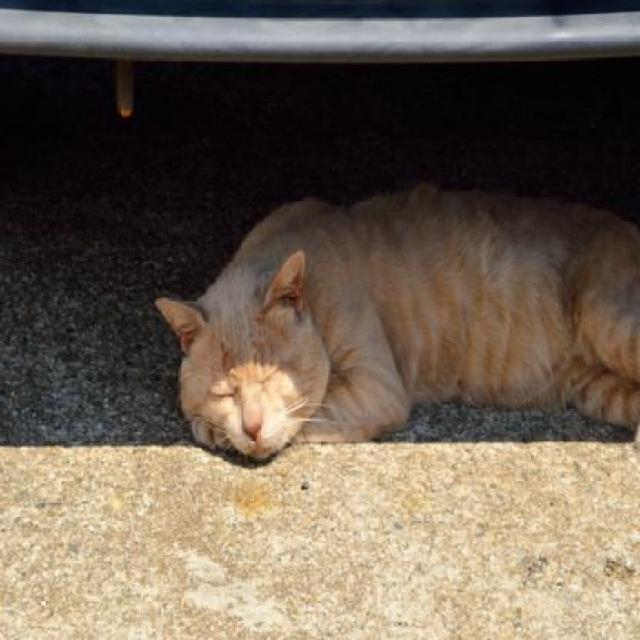cat: (156, 181, 639, 467)
